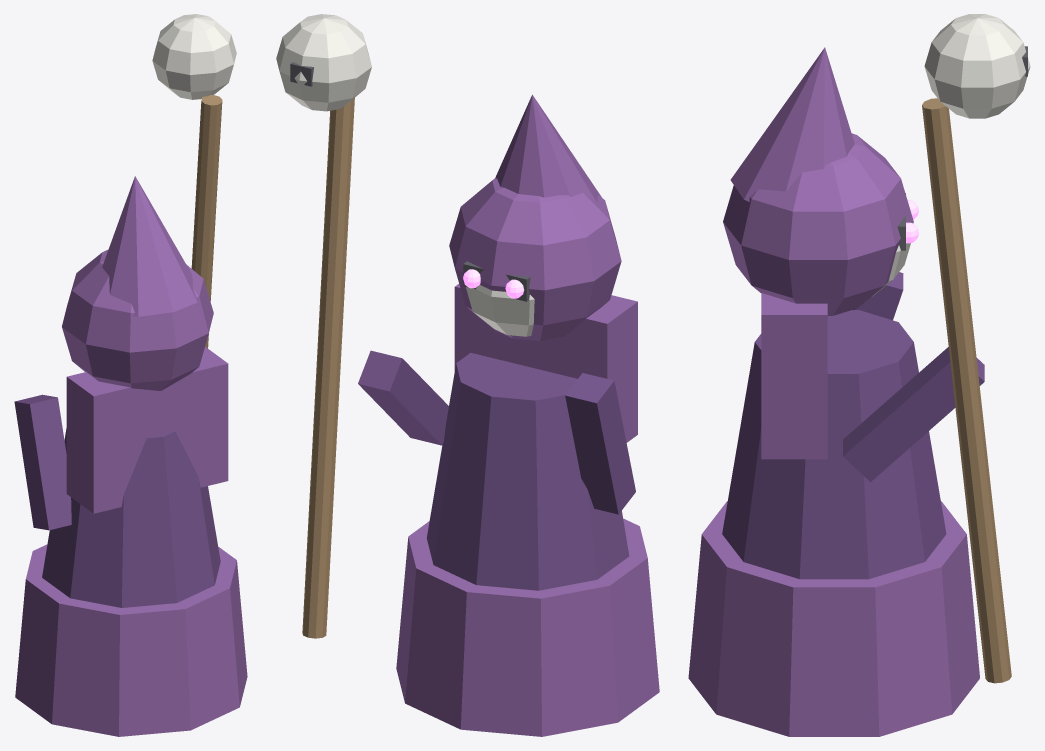
The model's file is witch.glb.
3 views of the same model, side by side, from view 1: azimuth 30°, elevation 25°; view 2: azimuth 150°, elevation 25°; view 3: azimuth 270°, elevation 25° (orthographic). The views are drawn at different scales.
Parts seen in each view (by area): view 1: witch; view 2: witch; view 3: witch.
Part boxes in pixels (bbox=[...]): witch: bbox=[14, 14, 247, 736]; witch: bbox=[276, 14, 659, 736]; witch: bbox=[688, 14, 1030, 736].
Bounding box in the file's own units: 1.36 × 3.05 × 1.29.
